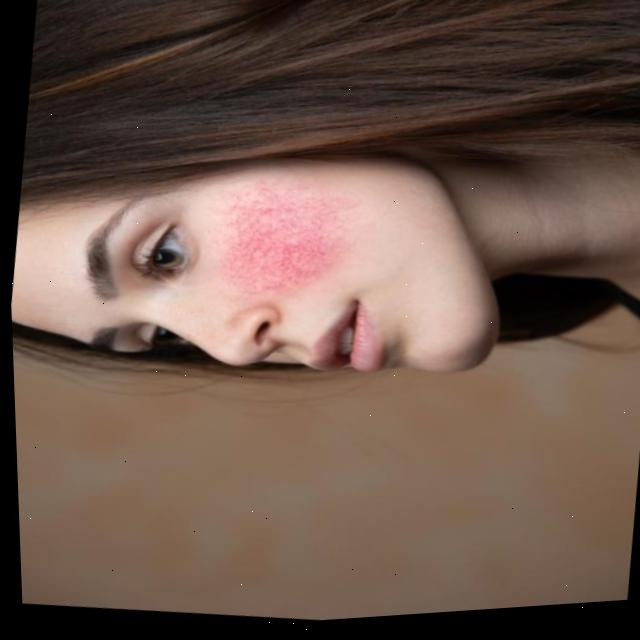Rosacea: (215, 210, 320, 294)
